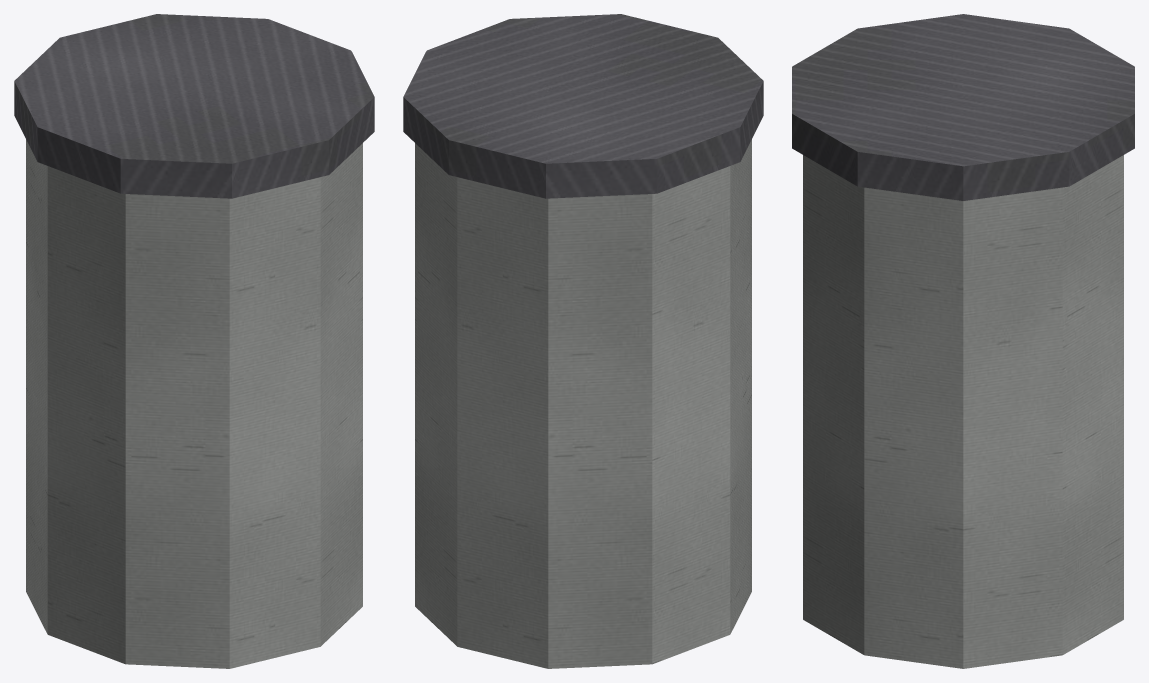
File: trashcan.glb
3 renders of one model, left to right at view 1: azimuth 30°, elevation 25°; view 2: azimuth 150°, elevation 25°; view 3: azimuth 270°, elevation 25°, orthographic.
Visible parts, largest first — view 1: NC_trashcan; view 2: NC_trashcan; view 3: NC_trashcan.
Part boxes in pixels (x1,y1,x2,y2): NC_trashcan: (14,14,374,668); NC_trashcan: (403,14,763,668); NC_trashcan: (792,14,1134,668).
Bounding box in the file's own units: 0.47 × 0.73 × 0.447.
Materials: 2 (2 with a texture image).
